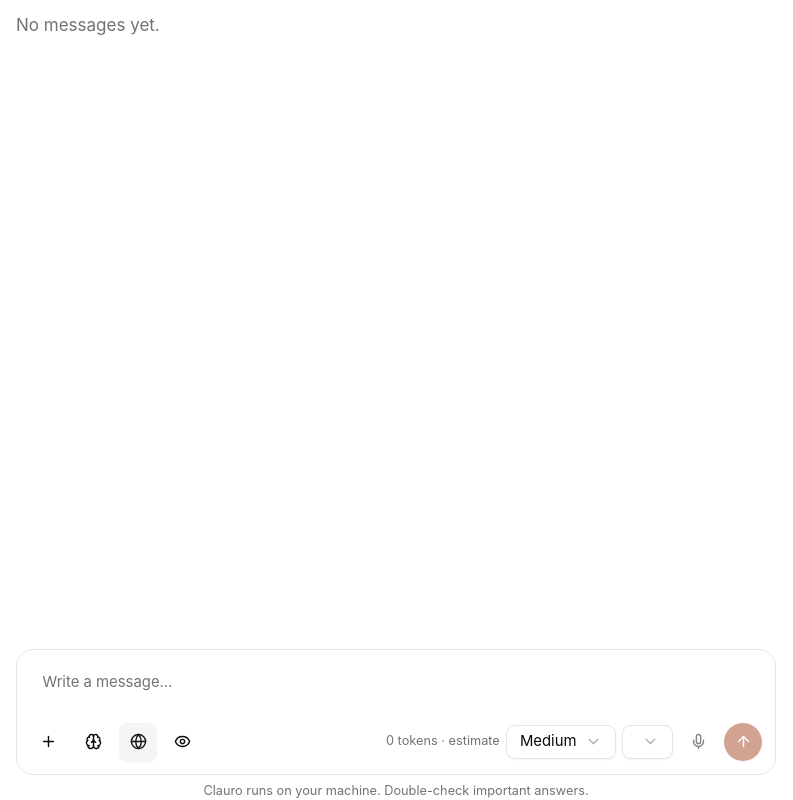
Test: ChatView › streams text deltas into a live row while the turn runs
Type "hello" into the text box labelled "Write a message…". click: (396,688)
box: [30,663,762,714]
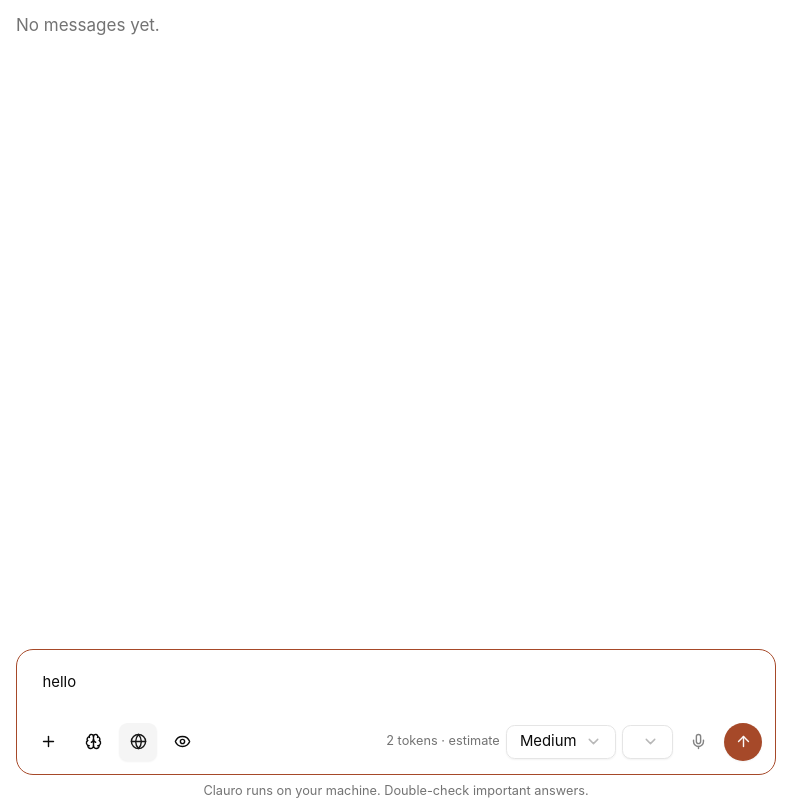
Click the button named "send". click: (743,742)
box: [724,722,762,761]
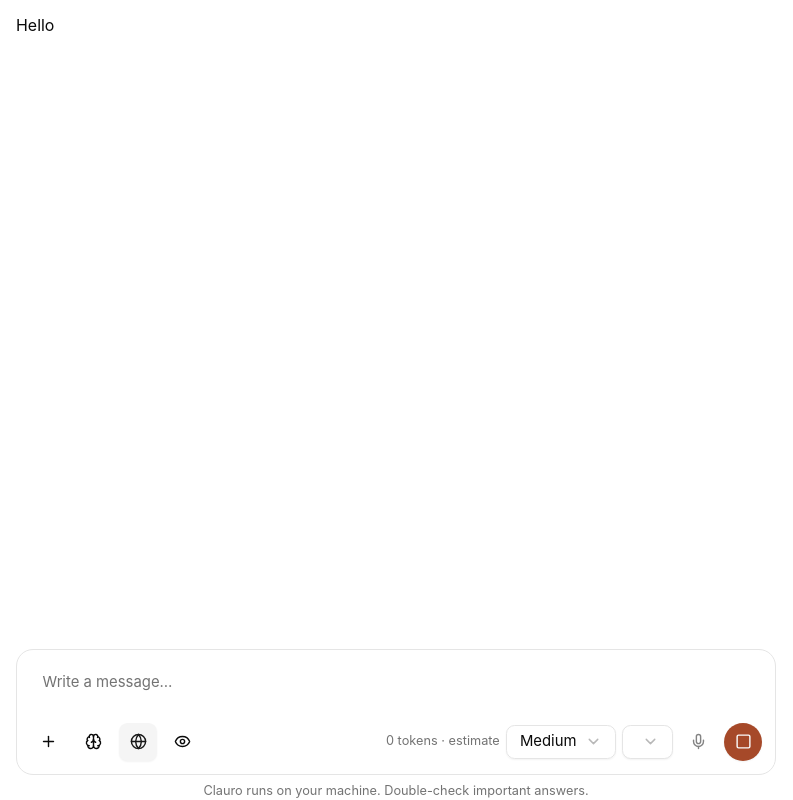
Check: the element with test id "row-streaming" is shown, box [16,16,54,35]
